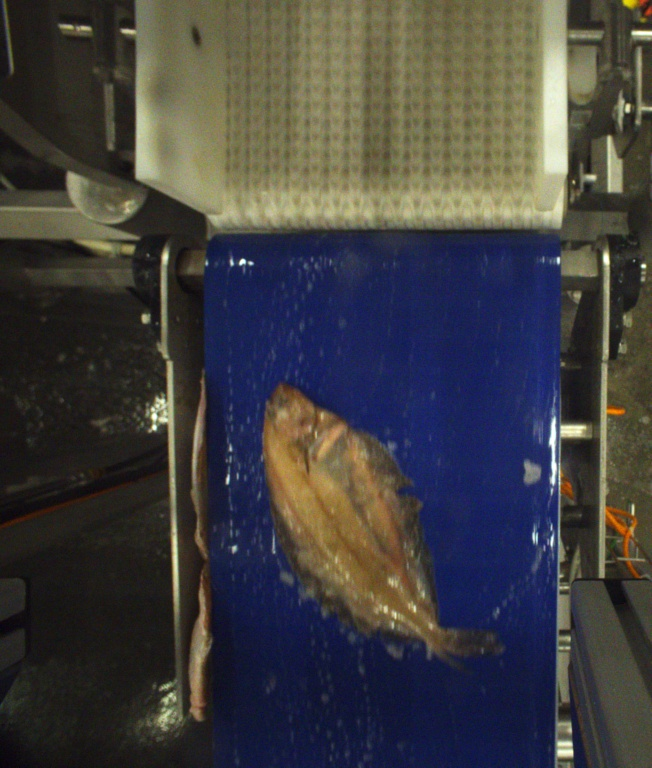WIT: (260, 385, 492, 672)
